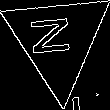N_E: (33, 18, 83, 63)
